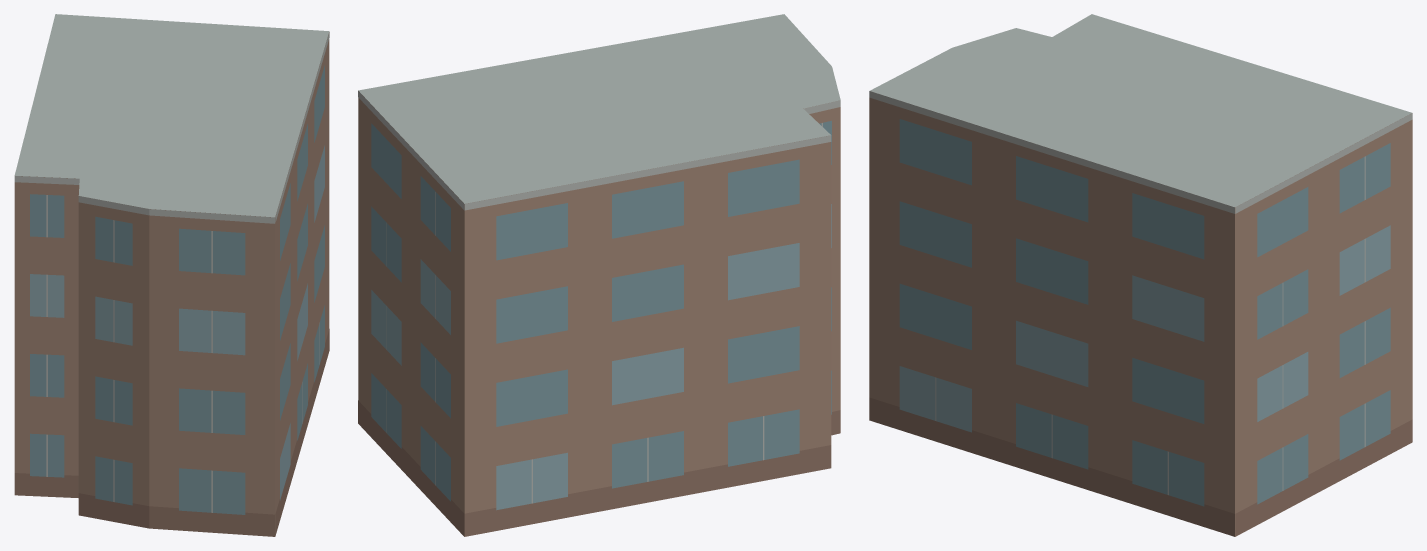
The model's file is survey-upis-32741602.glb.
3 views of the same model, side by side, from view 1: azimuth 30°, elevation 25°; view 2: azimuth 150°, elevation 25°; view 3: azimuth 270°, elevation 25° (orthographic). The views are drawn at different scales.
Parts seen in each view (by area): view 1: survey-upis-32741602.tmp; view 2: survey-upis-32741602.tmp; view 3: survey-upis-32741602.tmp.
Part boxes in pixels (x1,y1,x2,y2): survey-upis-32741602.tmp: (14,14,329,536); survey-upis-32741602.tmp: (358,14,840,536); survey-upis-32741602.tmp: (869,14,1412,536).
Size of the model in its own units: 15.24 by 12.1 by 18.09.
